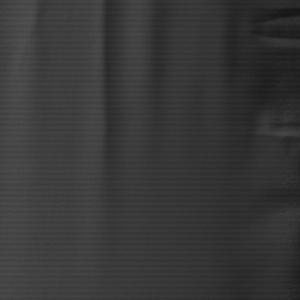Wrinkle: (8, 1, 175, 268), (216, 1, 300, 300)
